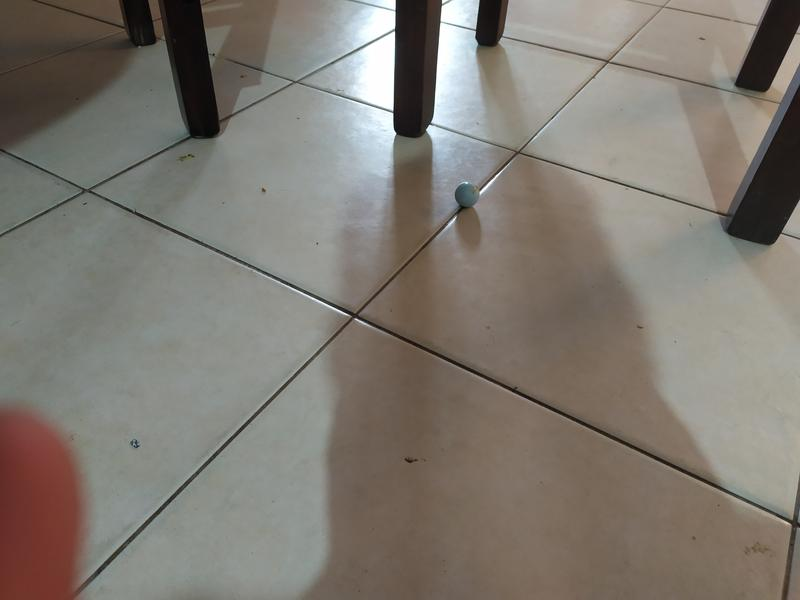Warning: (453, 180, 482, 209)
